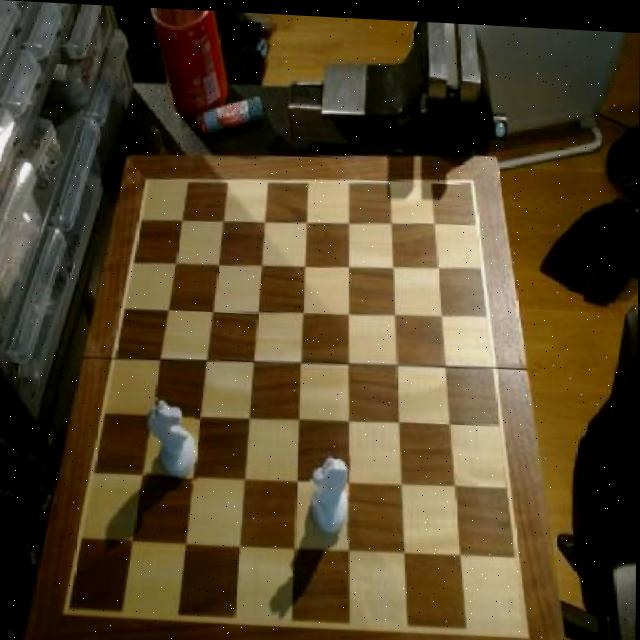white-king: (147, 396, 200, 481), (309, 448, 353, 534)
